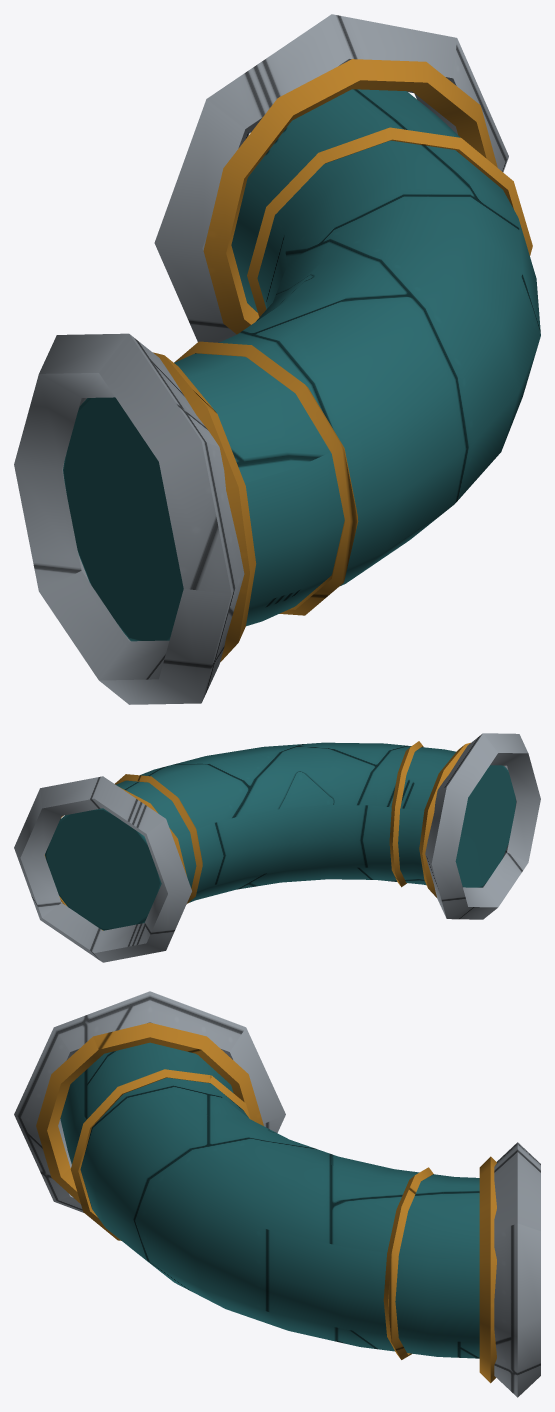
File: pressure_pipe_elbow_90_lod2.glb
3 views of the same model, one above another, from view 1: azimuth 30°, elevation 25°; view 2: azimuth 150°, elevation 25°; view 3: azimuth 270°, elevation 25° (orthographic). The views are drawn at different scales.
Visible parts, largest first — view 1: LOD2_Armor, LOD2_BrushedMetal, LOD2_Livery; view 2: LOD2_Armor, LOD2_BrushedMetal, LOD2_Livery; view 3: LOD2_Armor, LOD2_BrushedMetal, LOD2_Livery.
Boxes of the visible parts, x1,y1,x2,y2 form: LOD2_Armor: (63, 89, 540, 641); LOD2_BrushedMetal: (14, 14, 508, 704); LOD2_Livery: (153, 59, 532, 662); LOD2_Armor: (45, 742, 516, 930); LOD2_BrushedMetal: (14, 733, 540, 962); LOD2_Livery: (44, 741, 470, 930); LOD2_Armor: (60, 1042, 479, 1358); LOD2_BrushedMetal: (14, 991, 540, 1397); LOD2_Livery: (36, 1022, 496, 1383).
Size of the model in its own units: 2.15 by 1.11 by 2.15.
Materials: 3 (3 with a texture image).
